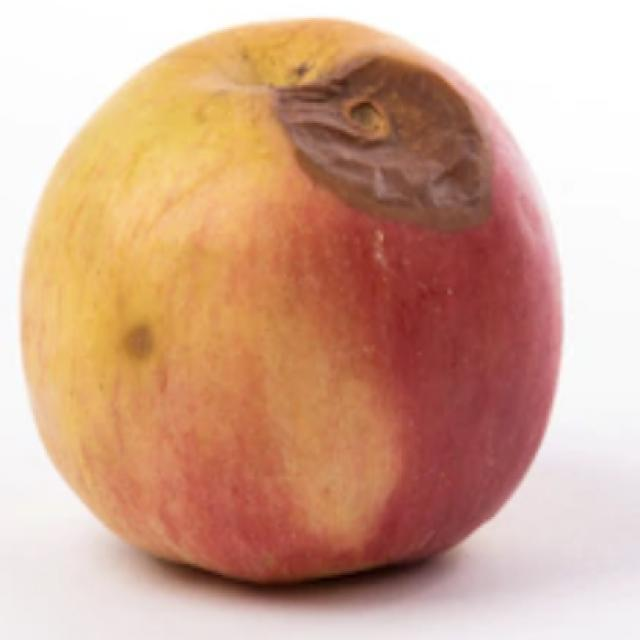Rotten: (21, 19, 563, 582)
